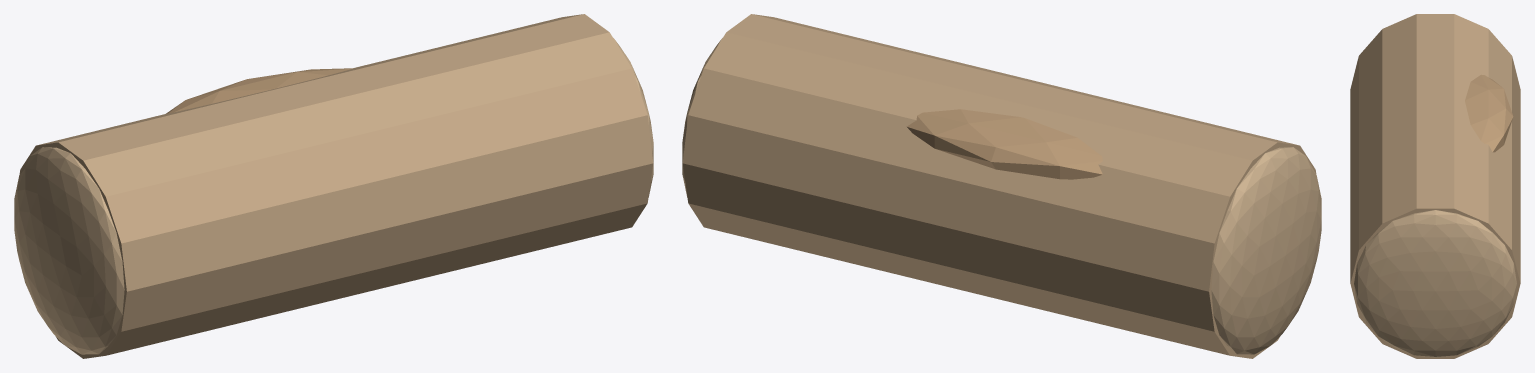
The model's file is fallen_log.glb.
3 renders of one model, left to right at view 1: azimuth 30°, elevation 25°; view 2: azimuth 150°, elevation 25°; view 3: azimuth 270°, elevation 25°, orthographic. The views are drawn at different scales.
Parts seen in each view (by area): view 1: fallen_log_00_wood, fallen_log_01_end, fallen_log_03_bark; view 2: fallen_log_00_wood, fallen_log_01_end, fallen_log_03_bark; view 3: fallen_log_00_wood, fallen_log_02_end, fallen_log_03_bark.
Part boxes in pixels (x1,y1,x2,y2): fallen_log_00_wood: (19, 14, 653, 358); fallen_log_01_end: (14, 147, 124, 354); fallen_log_03_bark: (166, 68, 353, 113); fallen_log_00_wood: (682, 14, 1316, 358); fallen_log_01_end: (1211, 147, 1321, 354); fallen_log_03_bark: (907, 109, 1102, 179); fallen_log_00_wood: (1350, 14, 1520, 358); fallen_log_02_end: (1354, 210, 1516, 357); fallen_log_03_bark: (1465, 74, 1513, 152).
Size of the model in its own units: 1.4 by 0.468 by 0.48.
